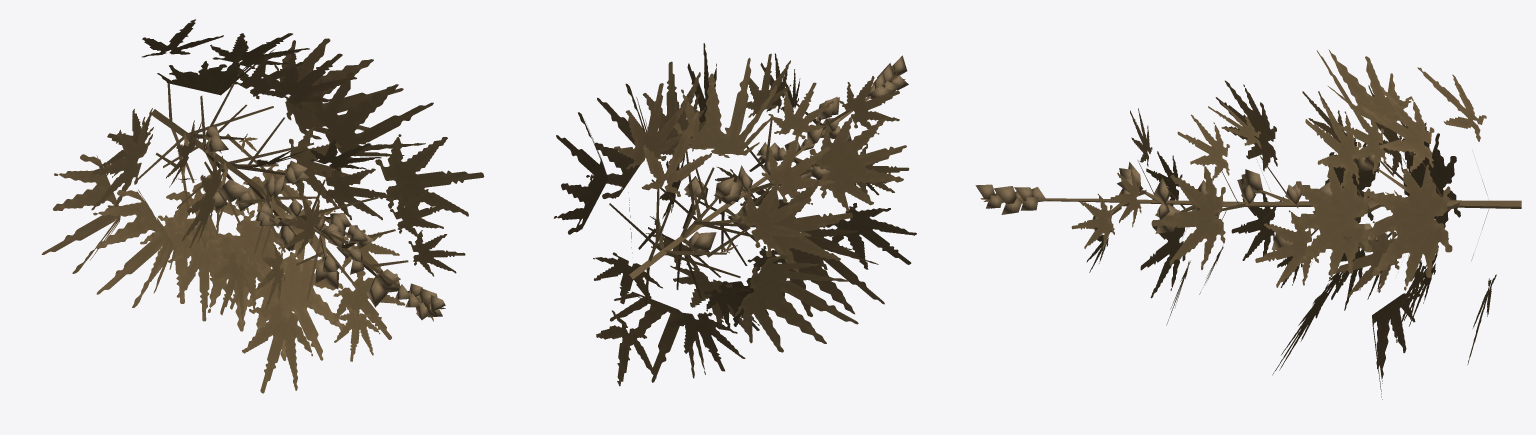
File: p_male_landrace_ripe_c3_cards.obj
The picture shows the model from 3 angles, left to right: view 1: azimuth 30°, elevation 25°; view 2: azimuth 150°, elevation 25°; view 3: azimuth 270°, elevation 25°; orthographic projection. The views are drawn at different scales.
Bounding box in the file's own units: 1.83 × 1.63 × 2.28.
Materials: 1 (1 with a texture image).
